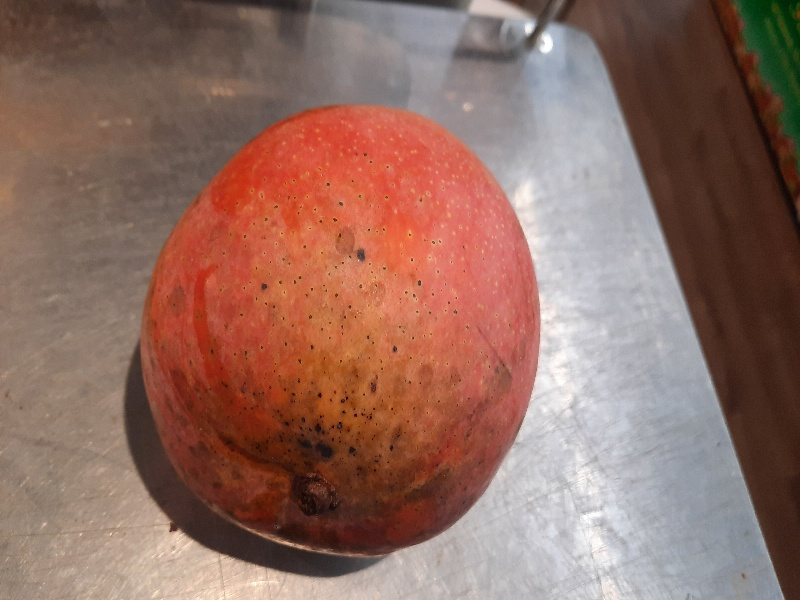fruit: (140, 102, 546, 571)
